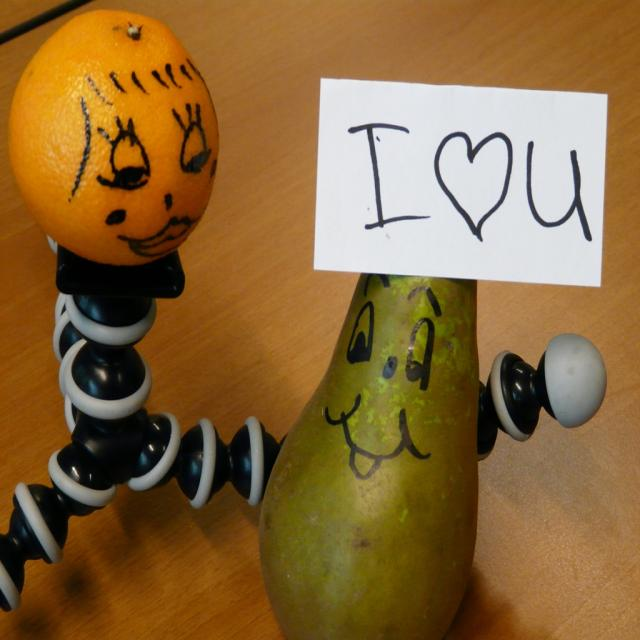pear: (251, 253, 491, 639)
